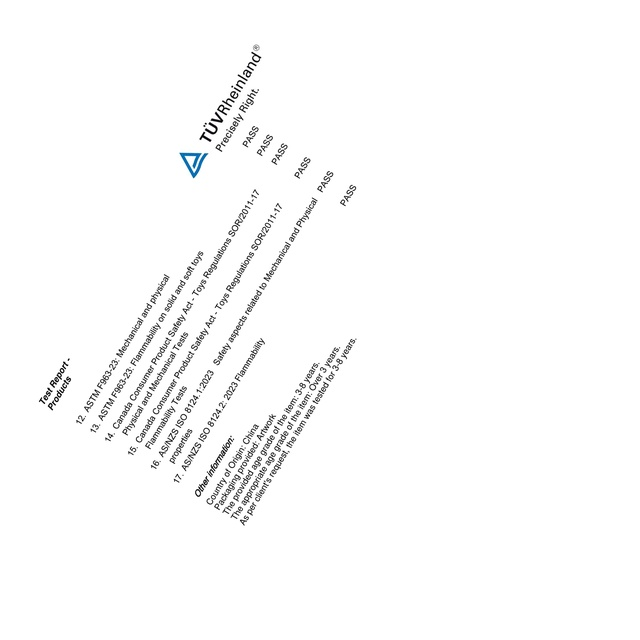tuv_rheinland: (176, 38, 264, 178)
